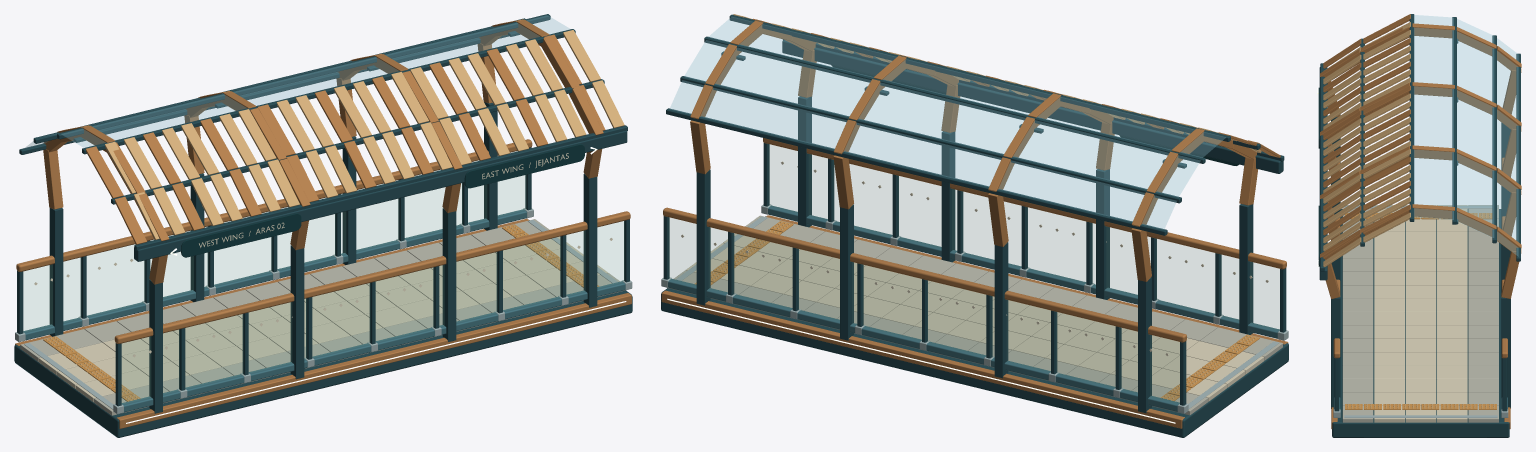
3 renders of one model, left to right at view 1: azimuth 30°, elevation 25°; view 2: azimuth 150°, elevation 25°; view 3: azimuth 270°, elevation 25°, orthographic. The views are drawn at different scales.
Visible parts, largest first — view 1: Jejantas | Atrium Link Bridge - Bridge Deck, Jejantas | Atrium Link Bridge - Glazing, Jejantas | Atrium Link Bridge - Canopy Structure, Jejantas | Atrium Link Bridge - Canopy Louvres, Jejantas | Atrium Link Bridge - Guardrails, Jejantas | Atrium Link Bridge - Roof Glazing, Jejantas | Atrium Link Bridge - Graphics, Jejantas | Atrium Link Bridge - Tactile Deck, Jejantas | Atrium Link Bridge - Lighting; view 2: Jejantas | Atrium Link Bridge - Glazing, Jejantas | Atrium Link Bridge - Bridge Deck, Jejantas | Atrium Link Bridge - Canopy Structure, Jejantas | Atrium Link Bridge - Roof Glazing, Jejantas | Atrium Link Bridge - Guardrails, Jejantas | Atrium Link Bridge - Tactile Deck, Jejantas | Atrium Link Bridge - Canopy Louvres, Jejantas | Atrium Link Bridge - Lighting, Jejantas | Atrium Link Bridge - Graphics; view 3: Jejantas | Atrium Link Bridge - Bridge Deck, Jejantas | Atrium Link Bridge - Roof Glazing, Jejantas | Atrium Link Bridge - Canopy Structure, Jejantas | Atrium Link Bridge - Canopy Louvres, Jejantas | Atrium Link Bridge - Guardrails, Jejantas | Atrium Link Bridge - Tactile Deck, Jejantas | Atrium Link Bridge - Graphics.
Boxes of the visible parts, box(x1,y1,x2,y2) form: Jejantas | Atrium Link Bridge - Bridge Deck: box(14, 218, 632, 437); Jejantas | Atrium Link Bridge - Glazing: box(24, 175, 624, 403); Jejantas | Atrium Link Bridge - Canopy Structure: box(19, 14, 627, 413); Jejantas | Atrium Link Bridge - Canopy Louvres: box(85, 30, 624, 244); Jejantas | Atrium Link Bridge - Guardrails: box(15, 139, 632, 414); Jejantas | Atrium Link Bridge - Roof Glazing: box(24, 15, 569, 148); Jejantas | Atrium Link Bridge - Graphics: box(34, 144, 612, 357); Jejantas | Atrium Link Bridge - Tactile Deck: box(43, 224, 599, 401); Jejantas | Atrium Link Bridge - Lighting: box(73, 31, 626, 423); Jejantas | Atrium Link Bridge - Glazing: box(669, 144, 1279, 403); Jejantas | Atrium Link Bridge - Bridge Deck: box(661, 215, 1288, 437); Jejantas | Atrium Link Bridge - Canopy Structure: box(666, 14, 1284, 413); Jejantas | Atrium Link Bridge - Roof Glazing: box(670, 17, 1225, 229); Jejantas | Atrium Link Bridge - Guardrails: box(661, 138, 1288, 413); Jejantas | Atrium Link Bridge - Tactile Deck: box(694, 221, 1259, 401); Jejantas | Atrium Link Bridge - Canopy Louvres: box(733, 14, 1280, 157); Jejantas | Atrium Link Bridge - Lighting: box(667, 51, 1186, 423); Jejantas | Atrium Link Bridge - Graphics: box(681, 65, 1268, 355); Jejantas | Atrium Link Bridge - Bridge Deck: box(1331, 205, 1510, 437); Jejantas | Atrium Link Bridge - Roof Glazing: box(1414, 15, 1518, 256); Jejantas | Atrium Link Bridge - Canopy Structure: box(1319, 14, 1521, 408); Jejantas | Atrium Link Bridge - Canopy Louvres: box(1323, 14, 1410, 266); Jejantas | Atrium Link Bridge - Guardrails: box(1333, 157, 1508, 417); Jejantas | Atrium Link Bridge - Tactile Deck: box(1345, 213, 1496, 410); Jejantas | Atrium Link Bridge - Graphics: box(1317, 87, 1319, 266).
Bounding box in the file's own units: 8 × 3.76 × 3.22.
